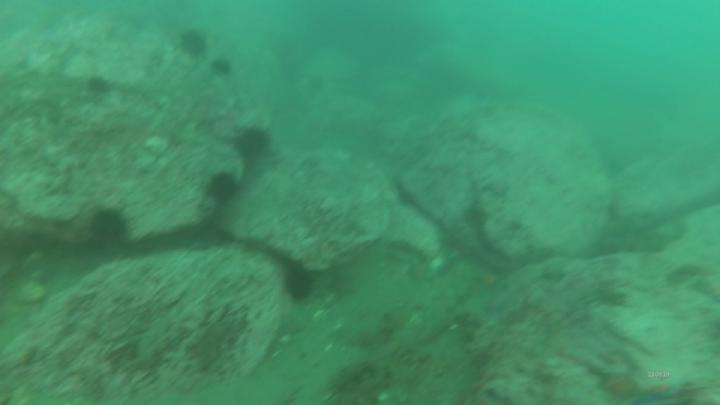echinus: (286, 264, 313, 295), (242, 129, 269, 155), (95, 213, 123, 237), (210, 177, 236, 201), (184, 32, 205, 53), (211, 59, 232, 78), (90, 77, 111, 95)
starfish: (596, 372, 637, 400), (473, 268, 505, 289)
